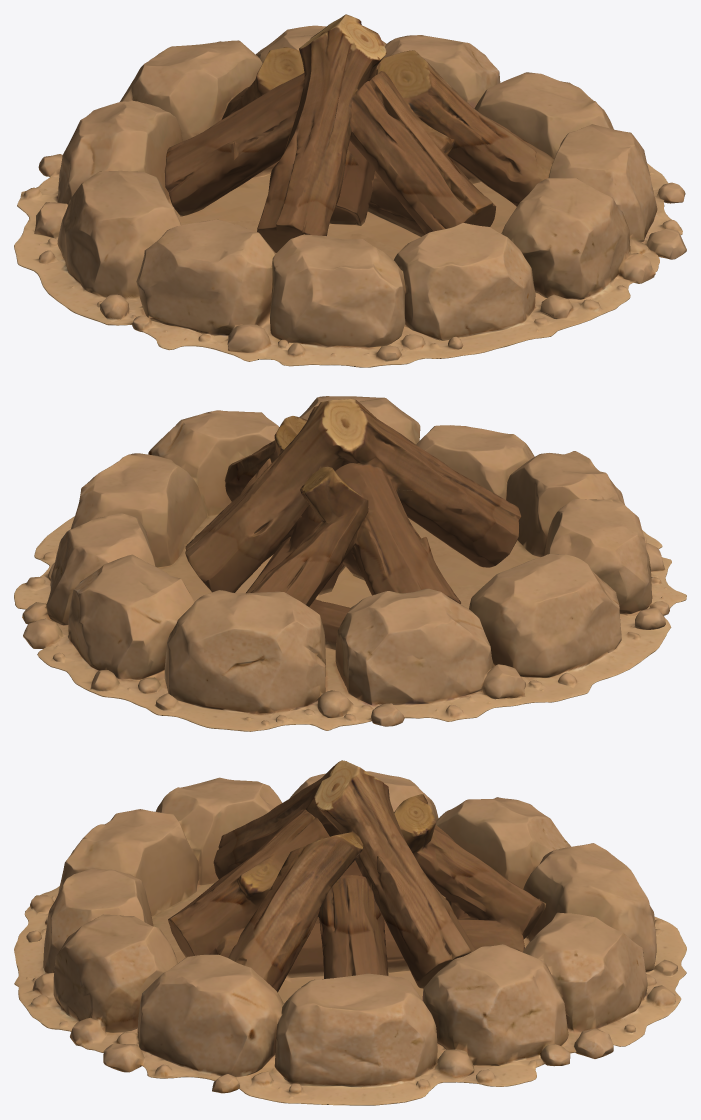
The model's file is pile+of+logs+3d+model.glb.
3 views of the same model, one above another, from view 1: azimuth 30°, elevation 25°; view 2: azimuth 150°, elevation 25°; view 3: azimuth 270°, elevation 25° (orthographic).
Visible parts, largest first — view 1: tripo_node_aa9698d9-6d78-43da-8fc4-e7162f8d80d1; view 2: tripo_node_aa9698d9-6d78-43da-8fc4-e7162f8d80d1; view 3: tripo_node_aa9698d9-6d78-43da-8fc4-e7162f8d80d1.
Boxes of the visible parts, <box> form: tripo_node_aa9698d9-6d78-43da-8fc4-e7162f8d80d1: <box>14,14,686,367</box>; tripo_node_aa9698d9-6d78-43da-8fc4-e7162f8d80d1: <box>14,396,686,731</box>; tripo_node_aa9698d9-6d78-43da-8fc4-e7162f8d80d1: <box>14,760,686,1105</box>.
Size of the model in its own units: 0.9984 by 0.3318 by 1.
Materials: 1 (1 with a texture image).
